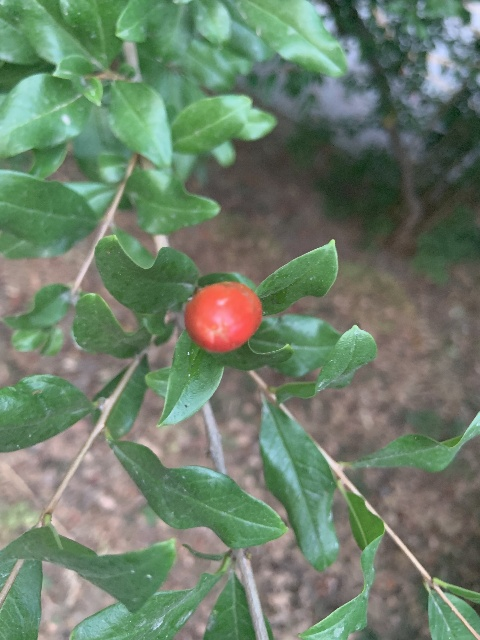bud: (184, 282, 261, 354)
